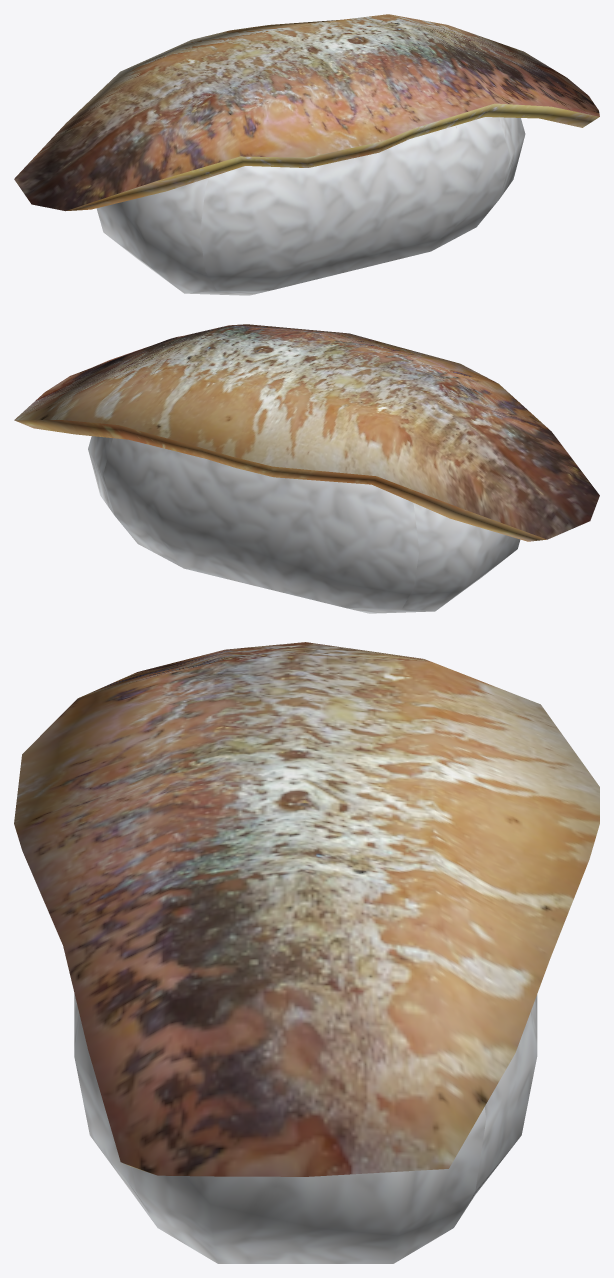
File: horse_mackerel.fbx
3 views of the same model, one above another, from view 1: azimuth 30°, elevation 25°; view 2: azimuth 150°, elevation 25°; view 3: azimuth 270°, elevation 25° (orthographic). The views are drawn at different scales.
Visible parts, largest first — view 1: horse_mackerel; view 2: horse_mackerel; view 3: horse_mackerel.
Part boxes in pixels (x1,y1,x2,y2): horse_mackerel: (14, 14, 599, 295); horse_mackerel: (14, 324, 599, 613); horse_mackerel: (14, 642, 599, 1263).
Bounding box in the file's own units: 8.07 × 3.02 × 3.96.
